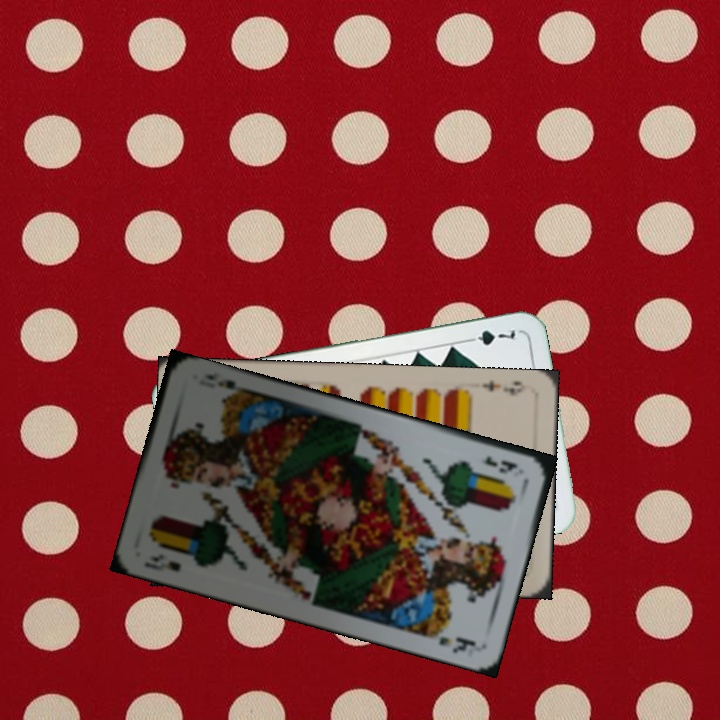E9: (478, 376, 529, 399)
EK: (139, 550, 184, 574), (480, 451, 521, 476)
G7: (461, 325, 518, 348)
